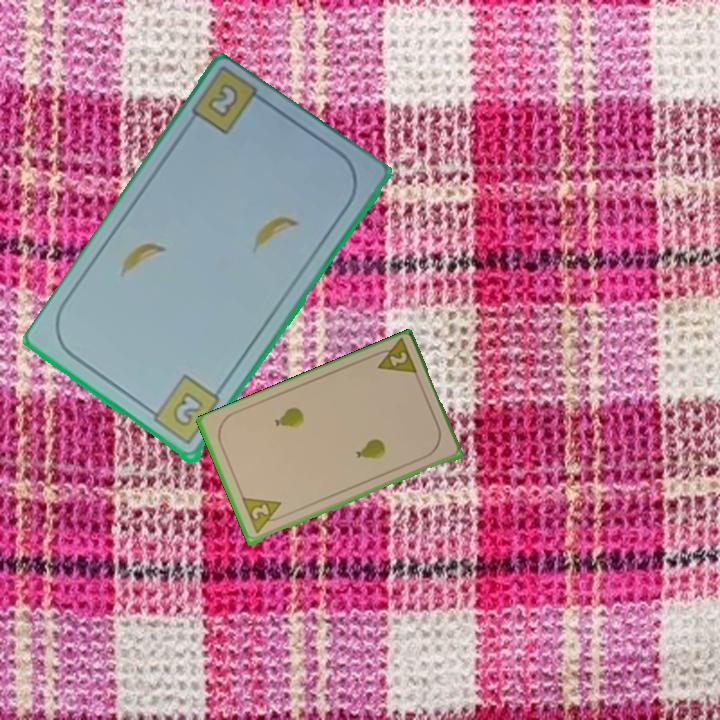2b: (144, 372, 223, 449), (203, 80, 242, 122)
2p: (368, 337, 421, 379), (238, 494, 288, 537)
